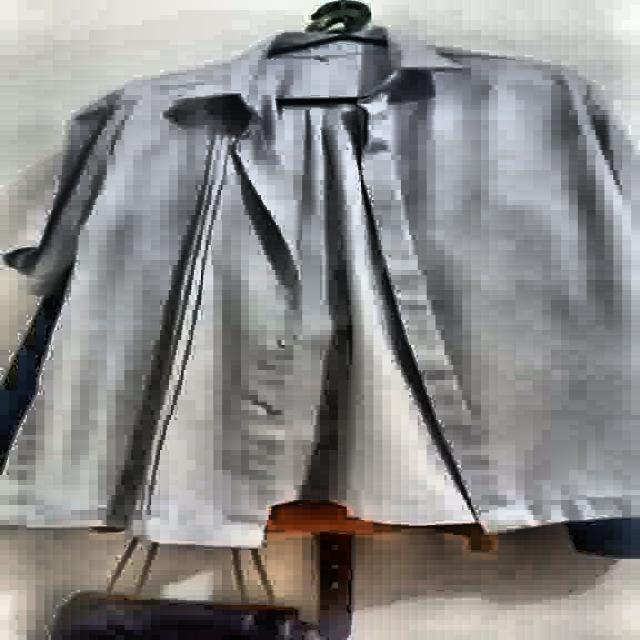clothes: (11, 28, 640, 558)
